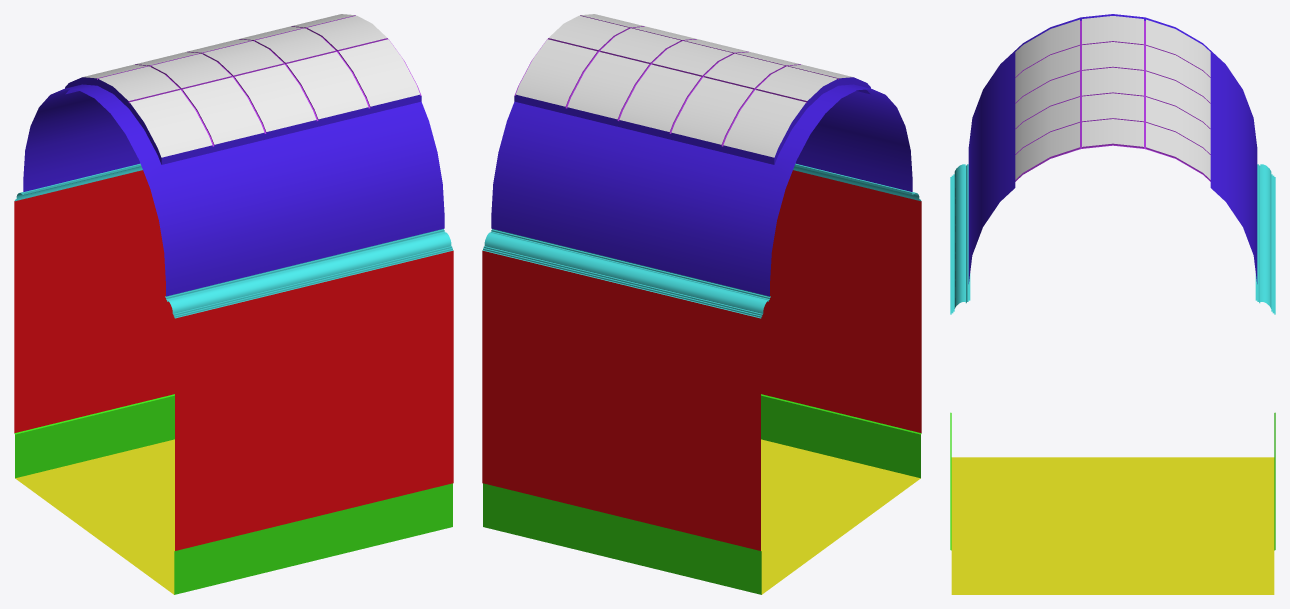
The model's file is Corridor_Forward_Windowed.fbx.
3 views of the same model, side by side, from view 1: azimuth 30°, elevation 25°; view 2: azimuth 150°, elevation 25°; view 3: azimuth 270°, elevation 25° (orthographic).
Parts seen in each view (by area): view 1: Couloir 2; view 2: Couloir 2; view 3: Couloir 2.
Part boxes in pixels (<box>): Couloir 2: <box>14,14,453,594</box>; Couloir 2: <box>482,14,921,594</box>; Couloir 2: <box>950,14,1275,594</box>.
Size of the model in its own units: 800 by 1222 by 800.
